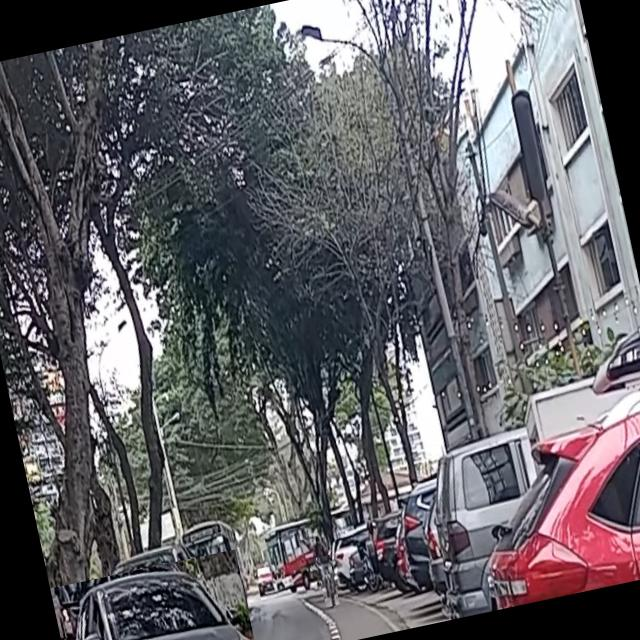bicycle: (316, 554, 340, 607)
car: (50, 548, 258, 640)
